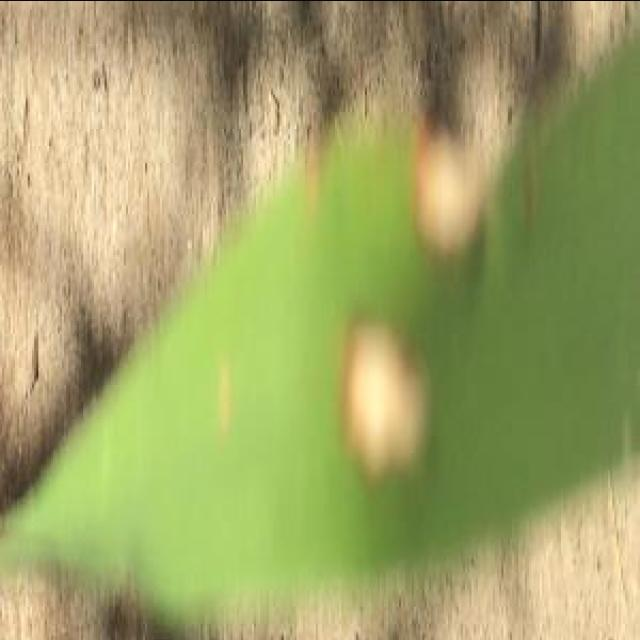Brown_Spot: (326, 308, 444, 483)
